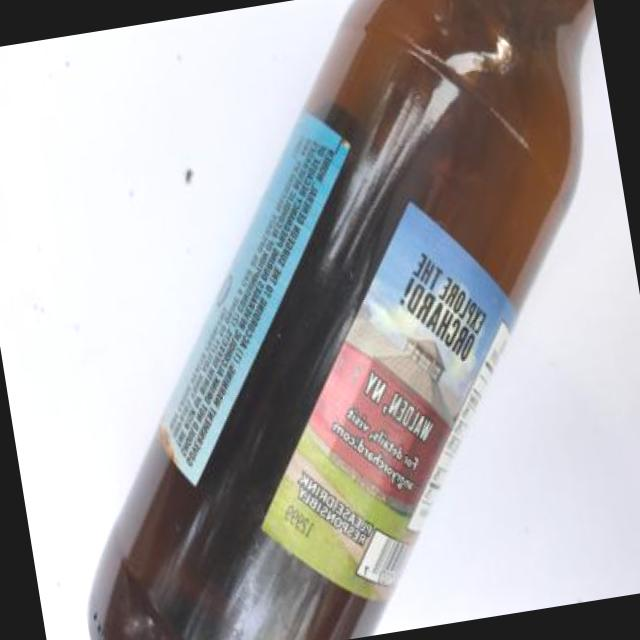chai_thuy_tinh: (92, 0, 596, 640)
